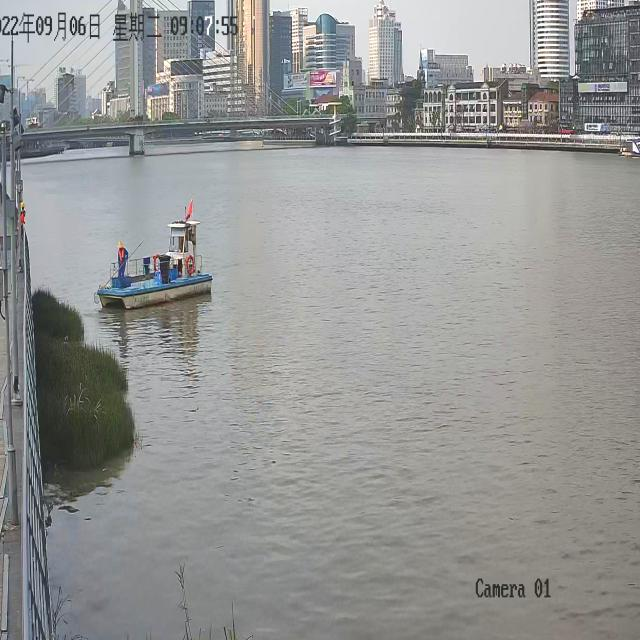ship: (98, 191, 213, 309)
